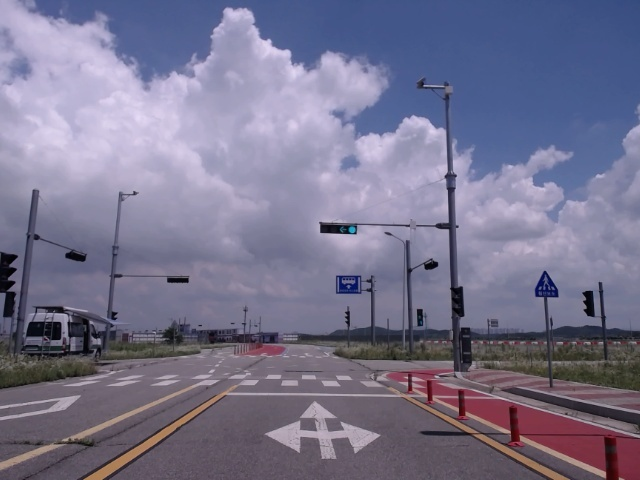all_green_4: (320, 223, 354, 233)
